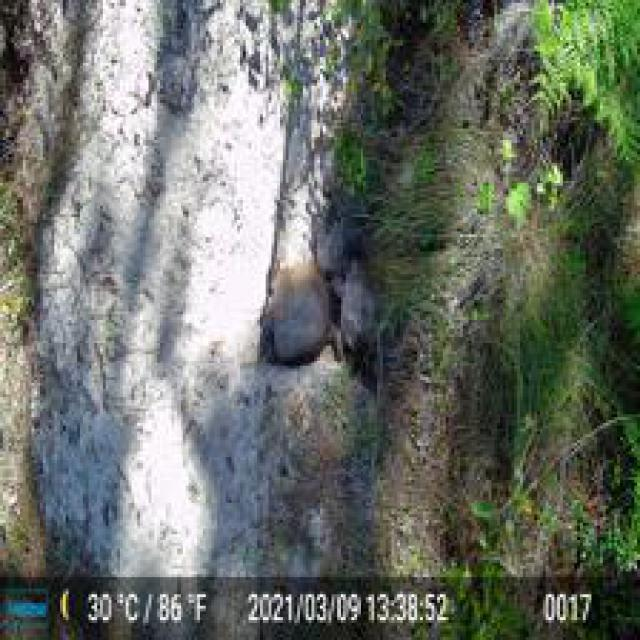tortoise: (254, 257, 322, 365), (329, 257, 377, 363)
